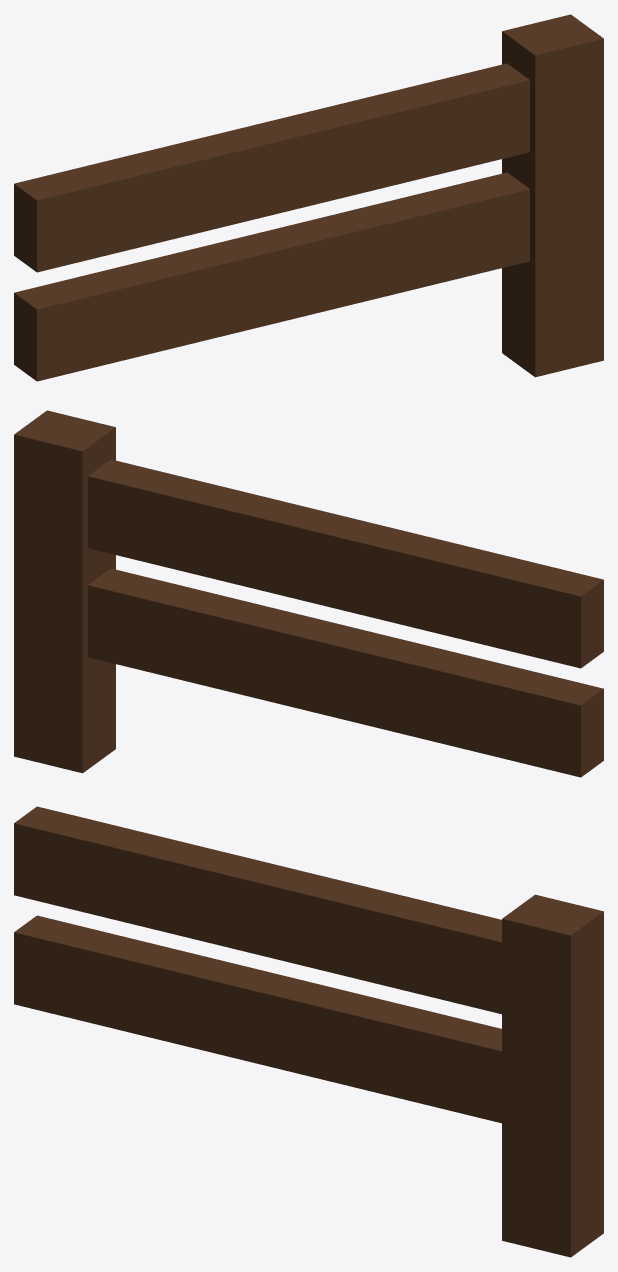
File: fenceLeft.fbx
The picture shows the model from 3 angles, top to bottom: view 1: azimuth 30°, elevation 25°; view 2: azimuth 150°, elevation 25°; view 3: azimuth 330°, elevation 25°; orthographic projection.
Parts seen in each view (by area): view 1: Cube.003, Cube.004, Cube.002; view 2: Cube.003, Cube.004, Cube.002; view 3: Cube.004, Cube.003, Cube.002.
Part boxes in pixels (x1,y1,x2,y2): Cube.003: [14, 63, 529, 272]; Cube.004: [14, 172, 529, 381]; Cube.002: [502, 14, 603, 377]; Cube.003: [88, 459, 603, 668]; Cube.004: [88, 568, 603, 777]; Cube.002: [14, 410, 115, 773]; Cube.004: [14, 915, 501, 1123]; Cube.003: [14, 806, 501, 1014]; Cube.002: [502, 894, 603, 1257].
Bounding box in the file's own units: 541 × 296 × 55.16.
